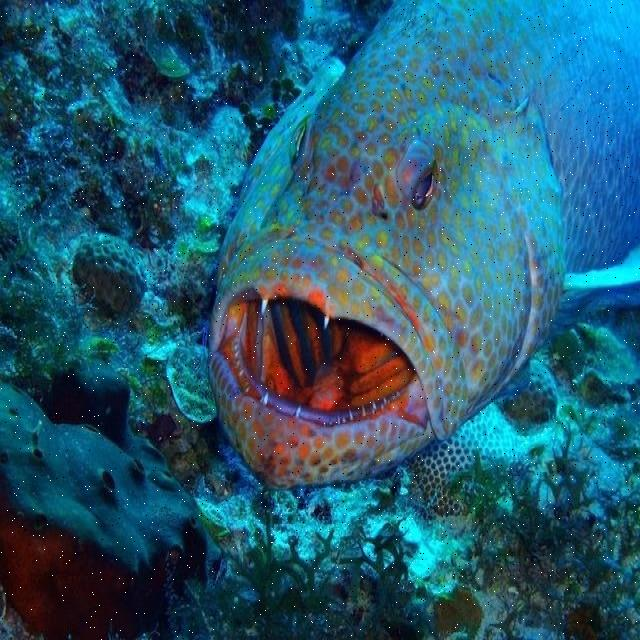aquatic plants: (226, 515, 308, 636)
fish: (208, 3, 639, 489)
reefs: (1, 357, 227, 636), (407, 360, 559, 516), (74, 231, 146, 318)
